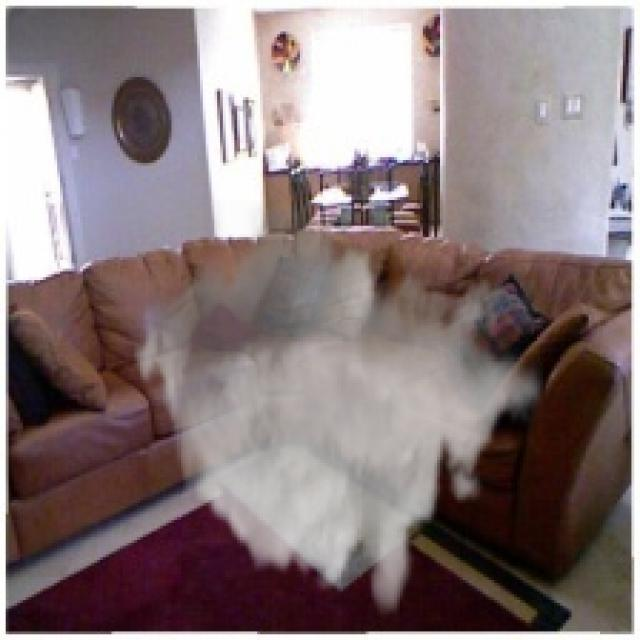smoke: (131, 200, 546, 620)
